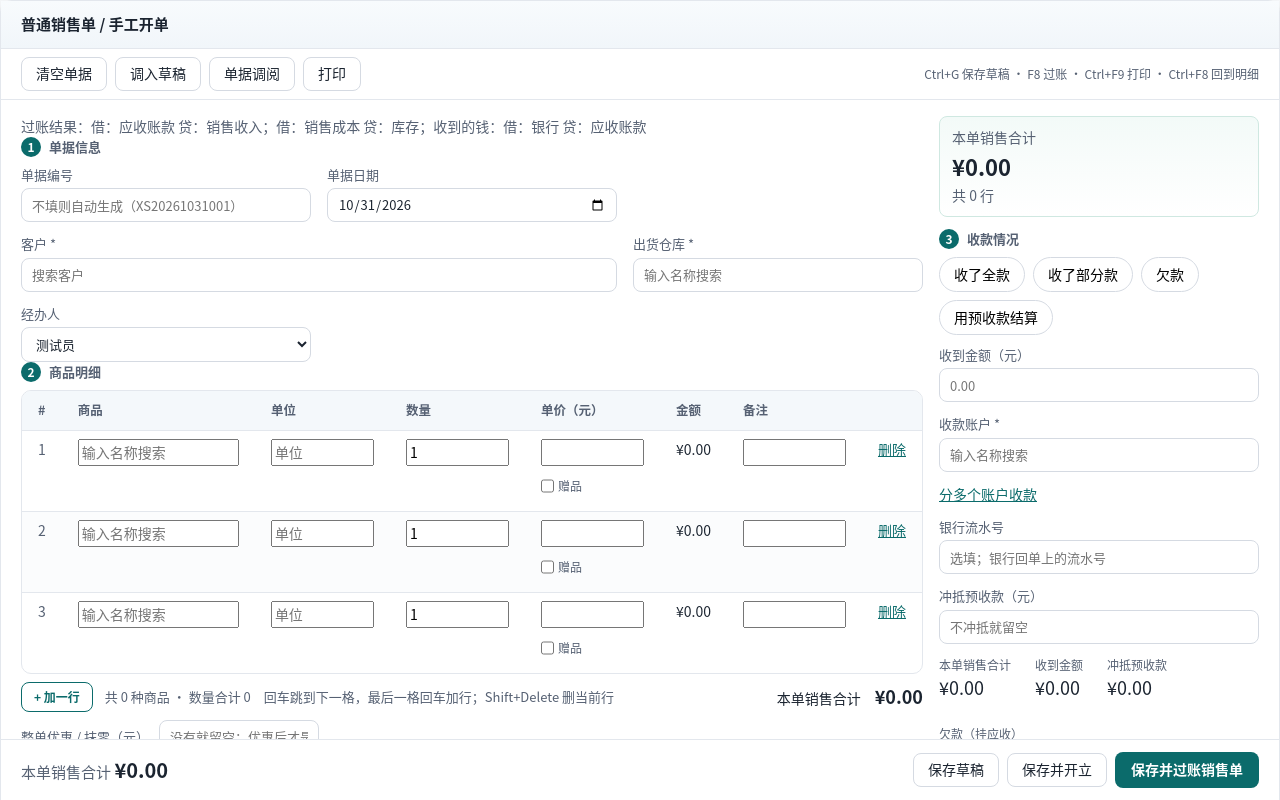
Test: 开单页细节 › 收款金额比单据少时提示还差多少未结清；底部一直显示本单合计
The width and height of the screenshot is (1280, 800).
Replace the text in the field named "第1行数量" with "2" at (457, 452), box x1=406 y1=439 x2=509 y2=466
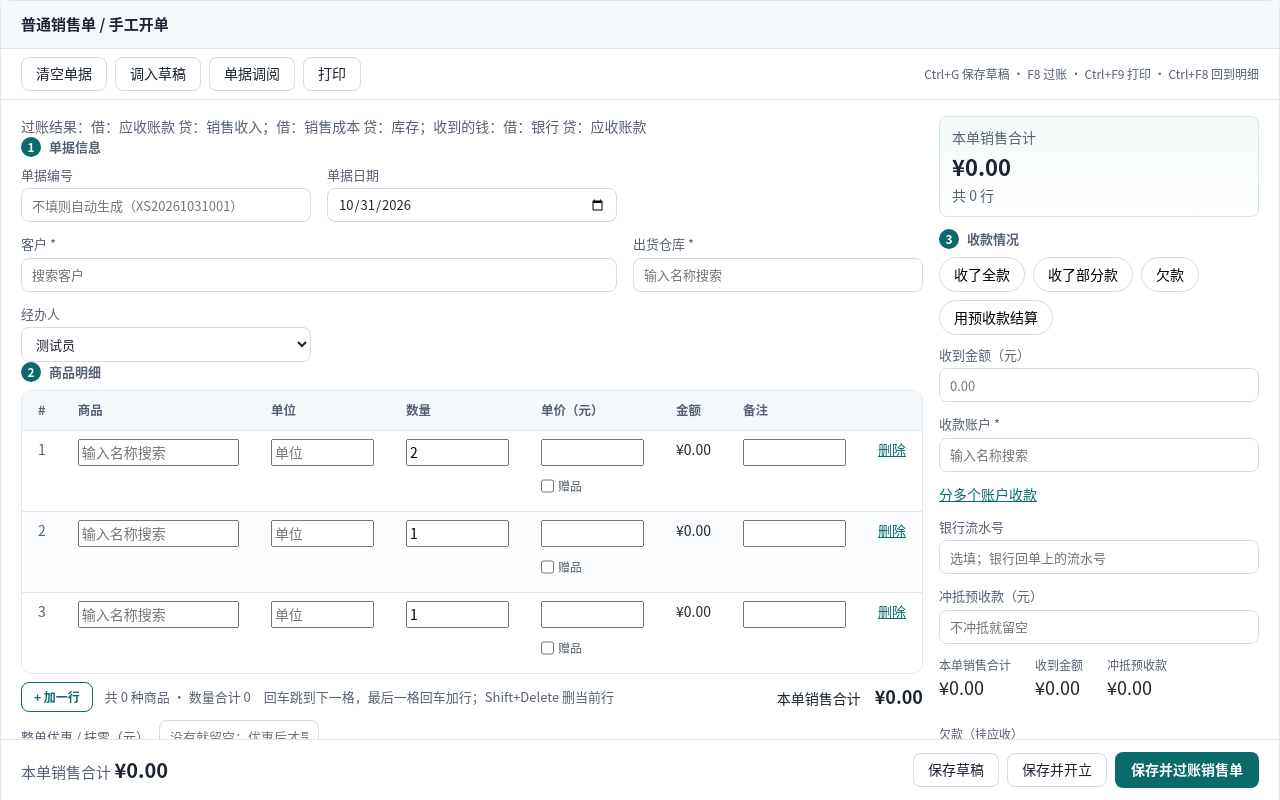
Type "10" into the field named "第1行单价" at (592, 452), box x1=541 y1=439 x2=644 y2=466
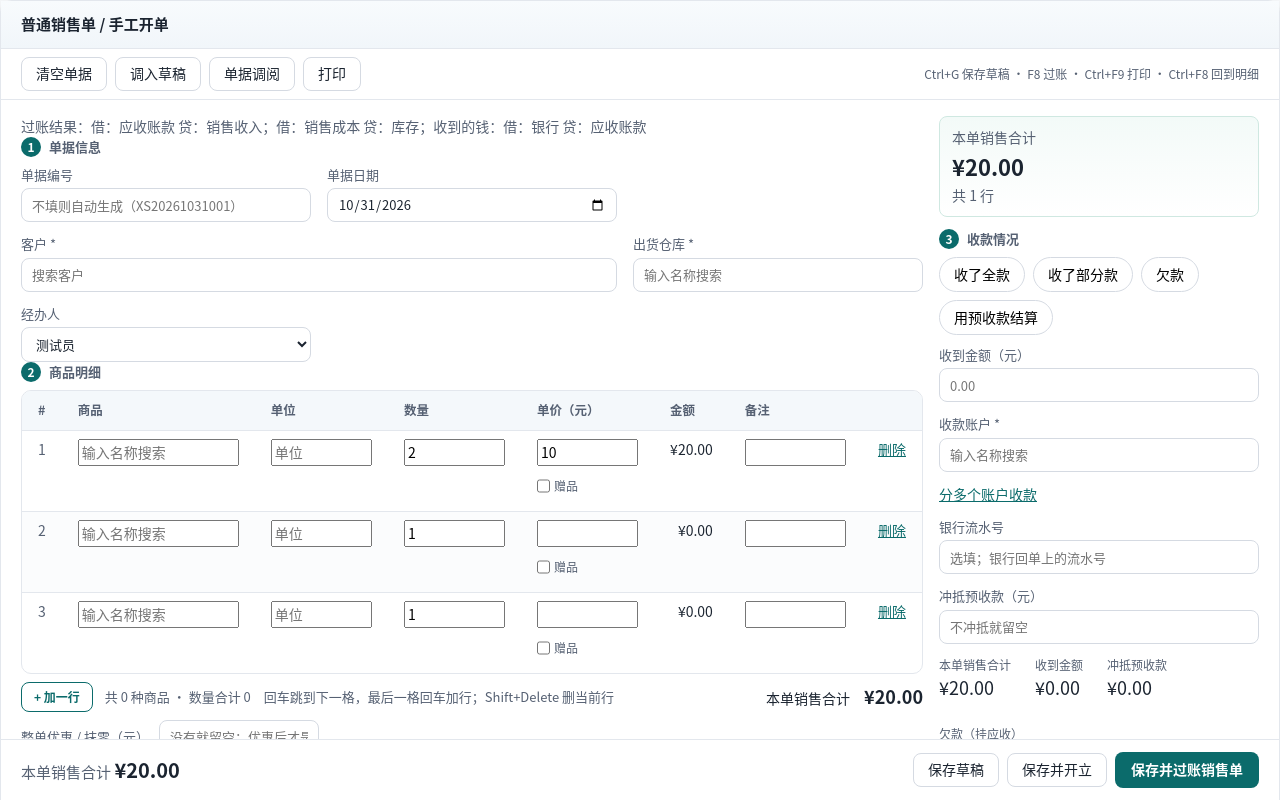
Click the button "收了部分款" at (1083, 274), box x1=1033 y1=256 x2=1133 y2=292
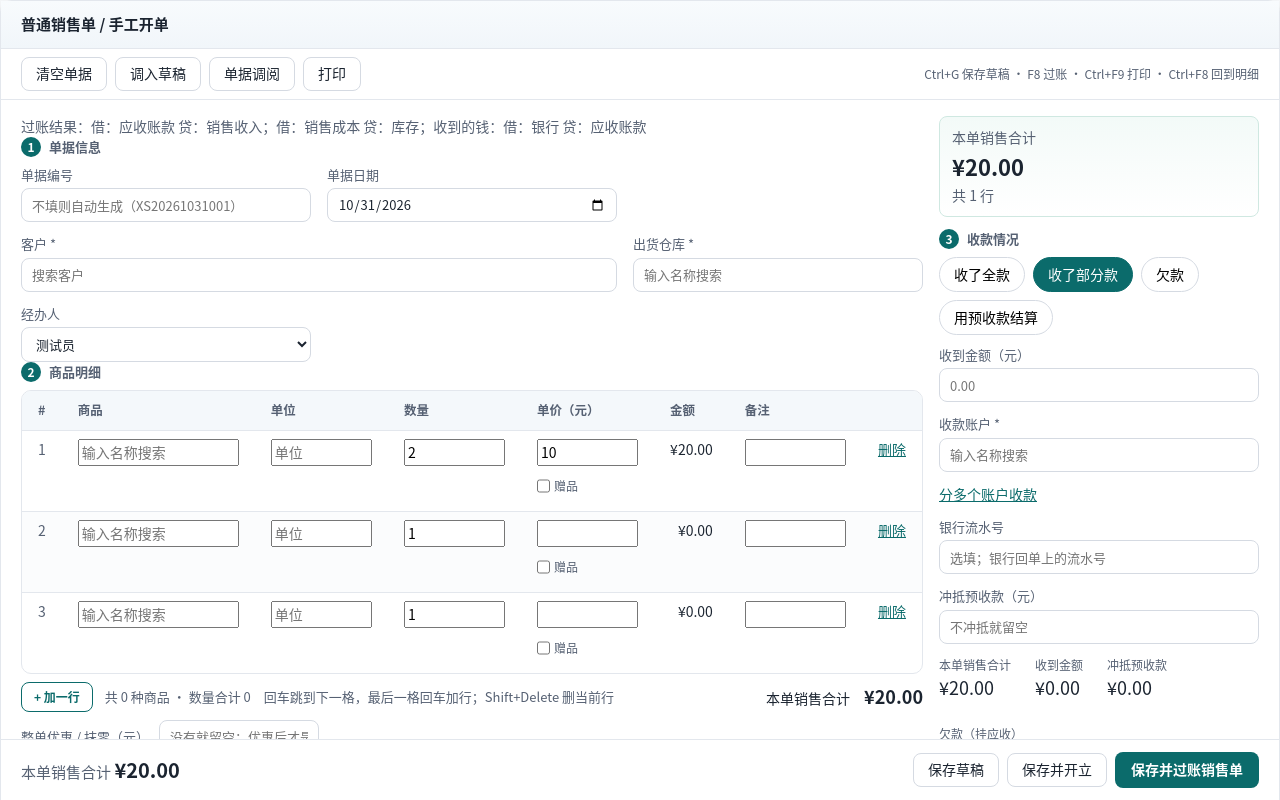
Type "5" into the field labelled "收到金额" at (1099, 385), box x1=939 y1=368 x2=1259 y2=402
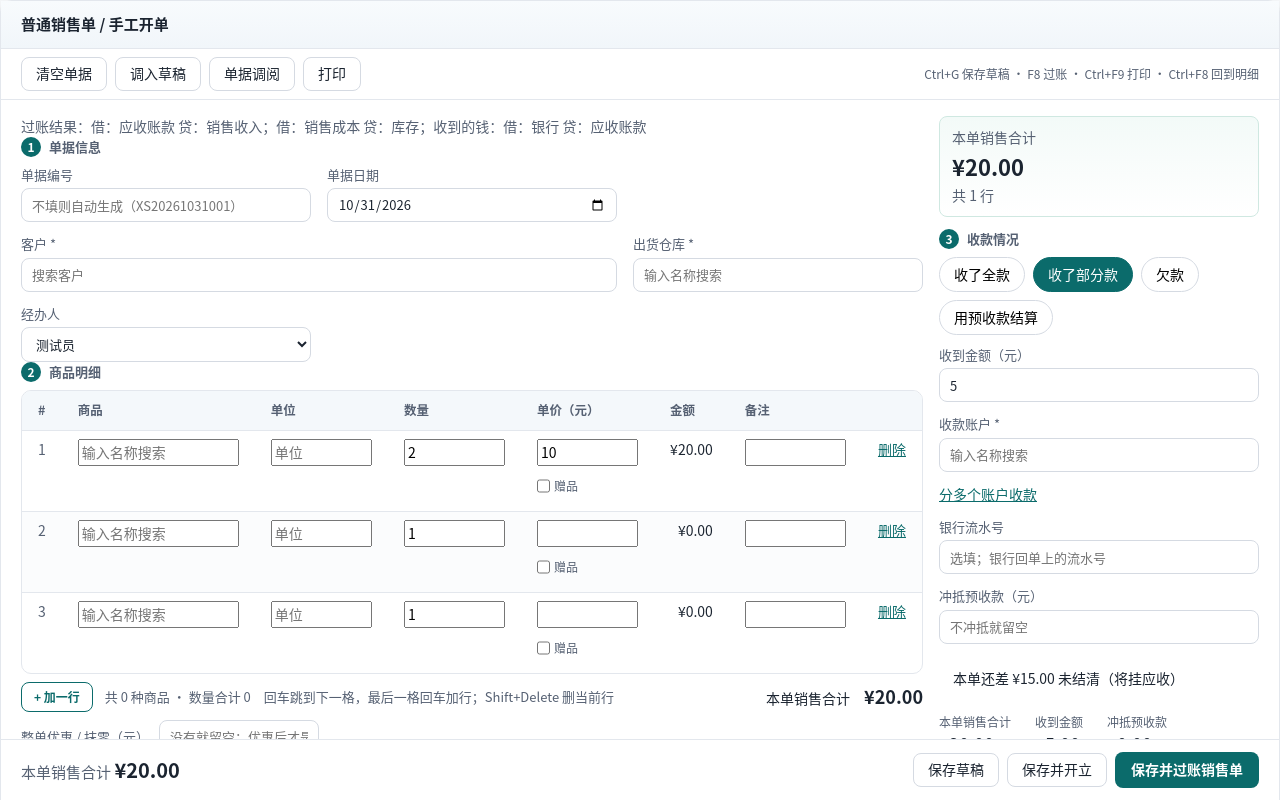
Result: the element with class "slip-foot-total" shows "¥20.00" at x1=114 y1=755 x2=180 y2=784
Result: the text "本单还差 ¥15.00 未结清" shows "挂应收" at x1=953 y1=668 x2=1184 y2=688
